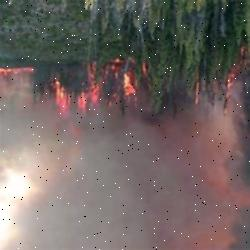fire: (49, 49, 152, 122)
